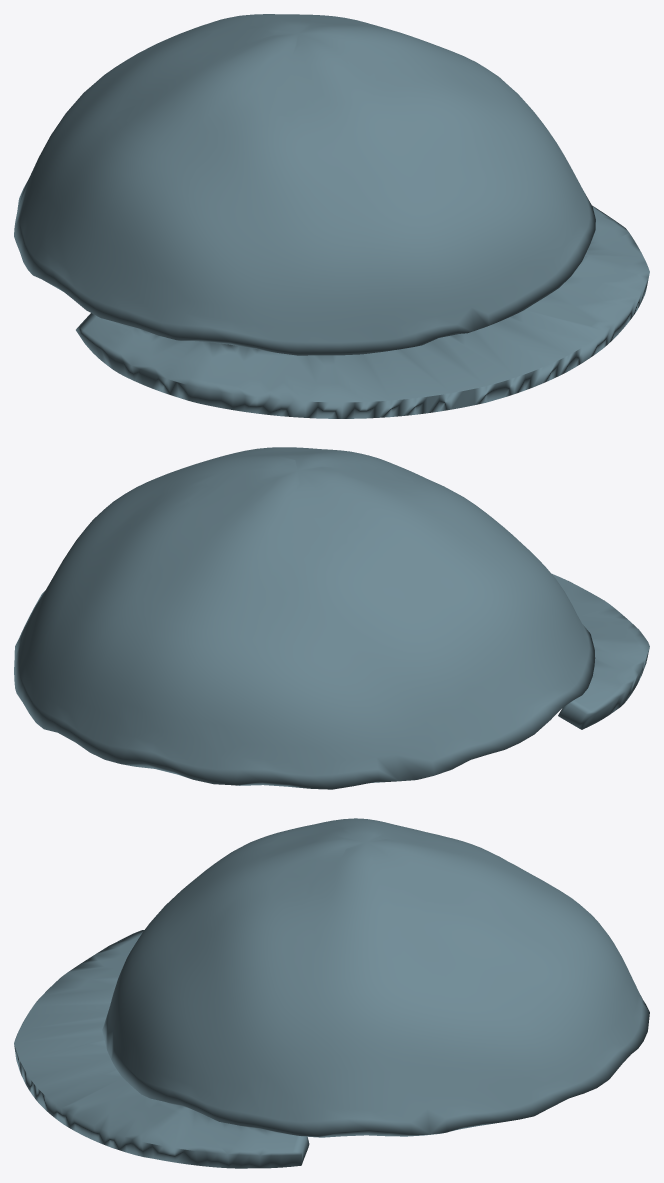
File: 3HT-feminino.glb
3 renders of one model, top to bottom at view 1: azimuth 30°, elevation 25°; view 2: azimuth 150°, elevation 25°; view 3: azimuth 270°, elevation 25°, orthographic. The views are drawn at different scales.
Visible parts, largest first — view 1: crown, shaped-brim; view 2: crown, shaped-brim; view 3: crown, shaped-brim.
Part boxes in pixels (left/top/right/bottom): crown: left=14, top=14, right=595, bottom=355; shaped-brim: left=76, top=205, right=649, bottom=418; crown: left=14, top=447, right=595, bottom=789; shaped-brim: left=552, top=574, right=649, bottom=729; crown: left=102, top=818, right=649, bottom=1137; shaped-brim: left=14, top=930, right=309, bottom=1168.
Size of the model in its own units: 0.043 by 0.0186 by 0.0488.
